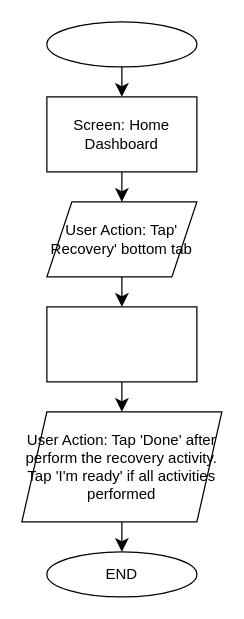
Image size: 244x619. Some labels were removed from this diagram. The centre of each missing label's shape, as x and y in pixels:
"Screen: Recovery menu" goes at (121,344).
"START" goes at (121,44).
